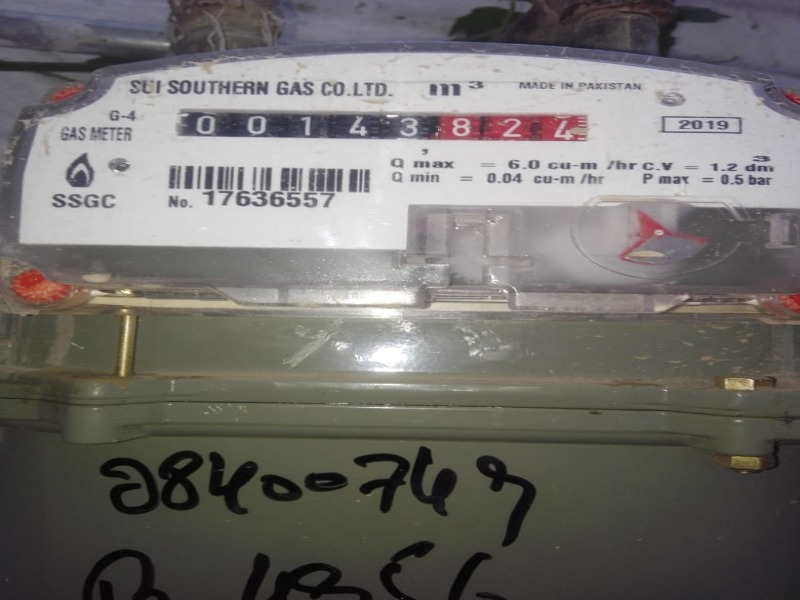ssgc: (168, 104, 594, 147)
